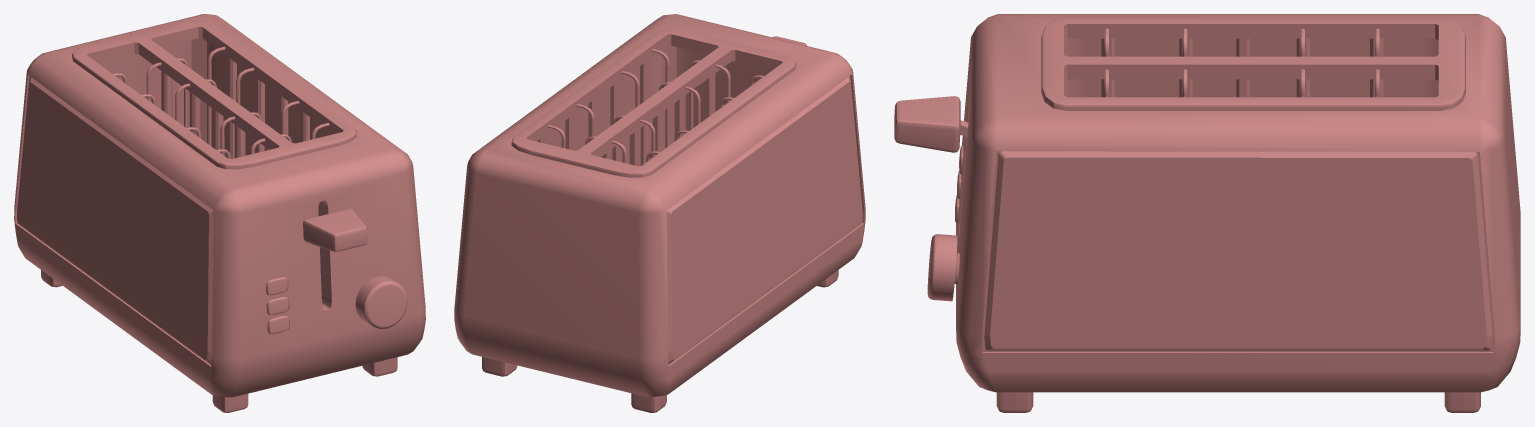
The model's file is Toaster.FBX.
3 renders of one model, left to right at view 1: azimuth 30°, elevation 25°; view 2: azimuth 150°, elevation 25°; view 3: azimuth 270°, elevation 25°, orthographic. The views are drawn at different scales.
Parts seen in each view (by area): view 1: polySurface129; view 2: polySurface129; view 3: polySurface129.
Boxes of the visible parts, left/top/right/bottom form: polySurface129: left=14, top=14, right=425, bottom=412; polySurface129: left=454, top=14, right=865, bottom=412; polySurface129: left=894, top=14, right=1520, bottom=412.
Bounding box in the file's own units: 0.2034 × 0.2071 × 0.3921.
